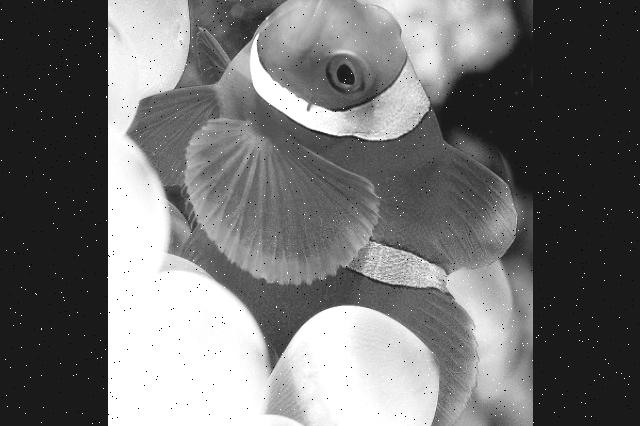Mulut: (265, 0, 352, 61)
Sirip Dada: (172, 108, 392, 302)
Sirip Perut: (115, 12, 239, 200)
Sirip Punggung: (374, 132, 525, 426)
